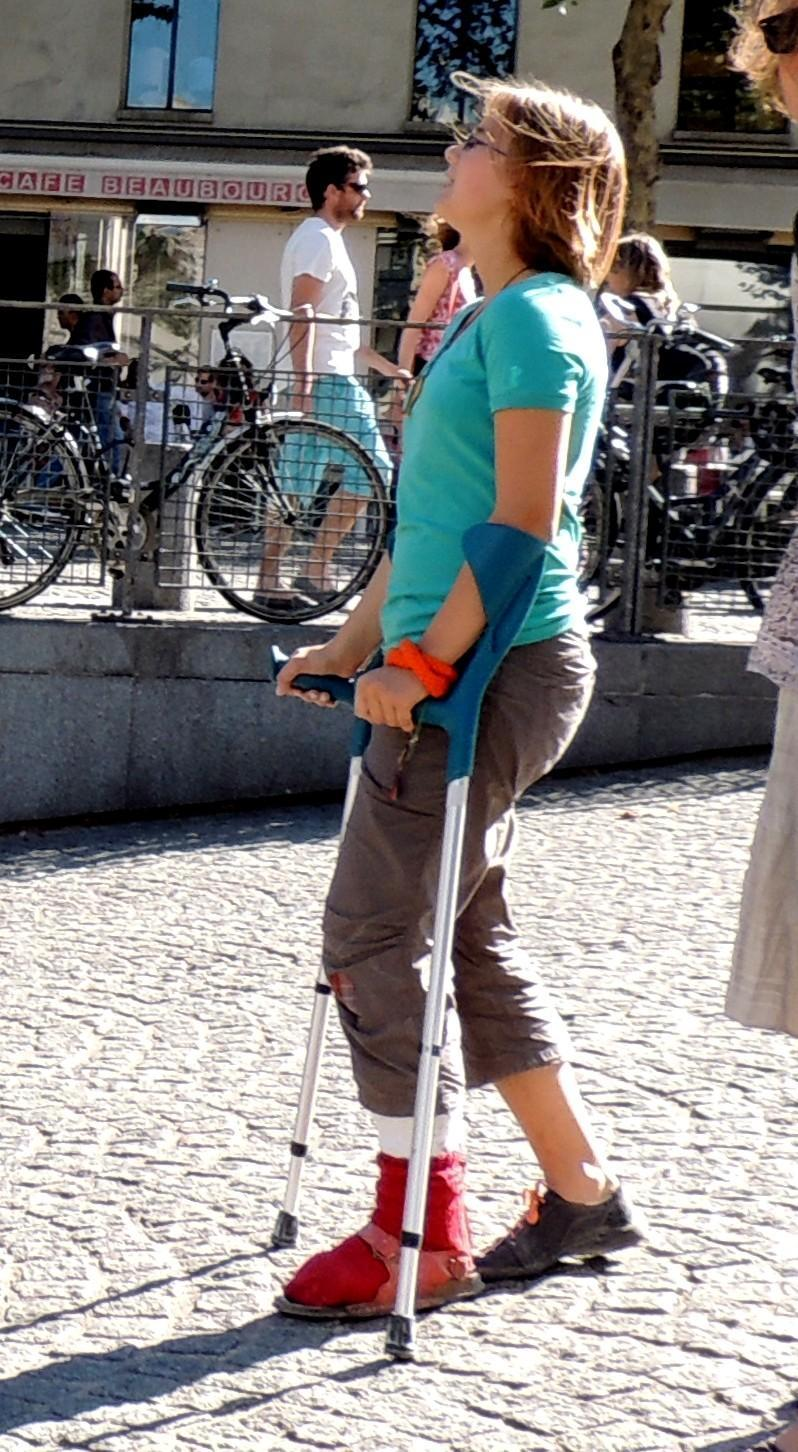crutches: (268, 88, 640, 1364)
